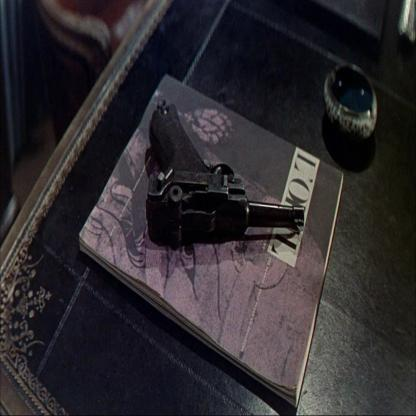gun: (144, 64, 318, 269)
